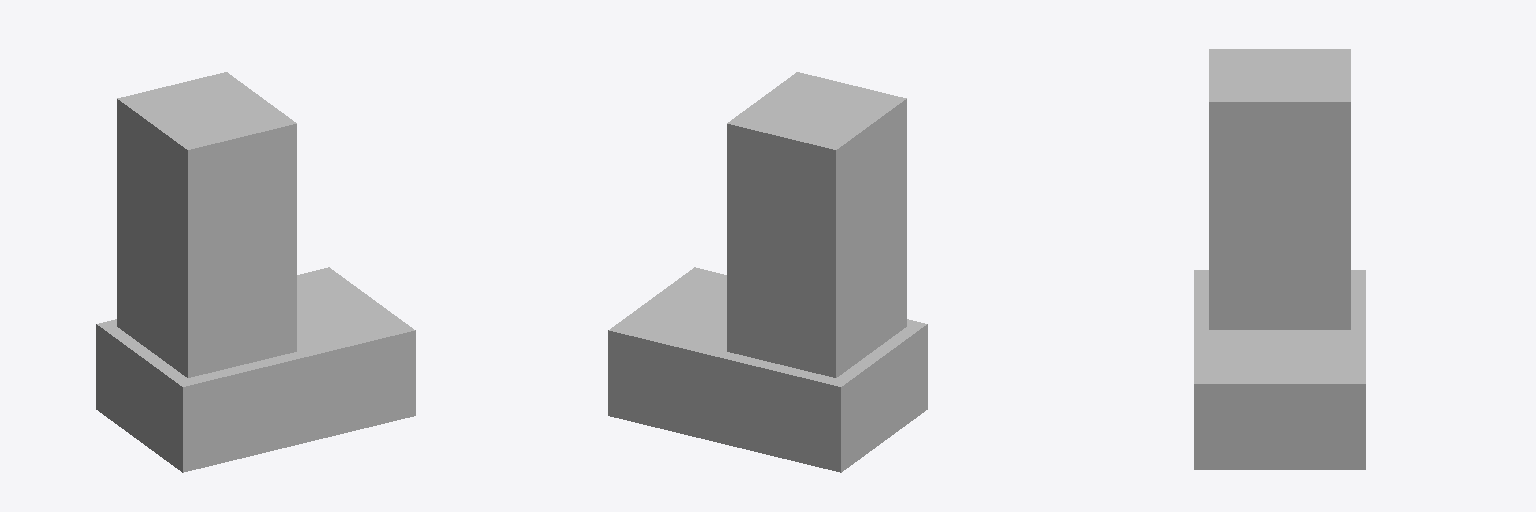
File: feet.obj
3 views of the same model, side by side, from view 1: azimuth 30°, elevation 25°; view 2: azimuth 150°, elevation 25°; view 3: azimuth 270°, elevation 25° (orthographic).
Parts seen in each view (by area): view 1: Cube.008, Cube.009; view 2: Cube.008, Cube.009; view 3: Cube.008, Cube.009.
Part boxes in pixels (x1,y1,x2,y2): Cube.008: (117,72,296,377); Cube.009: (96,267,415,472); Cube.008: (727,72,906,377); Cube.009: (608,267,927,472); Cube.008: (1209,49,1350,329); Cube.009: (1194,270,1365,469).
Bounding box in the file's own units: 1.68 × 2.16 × 1.08.